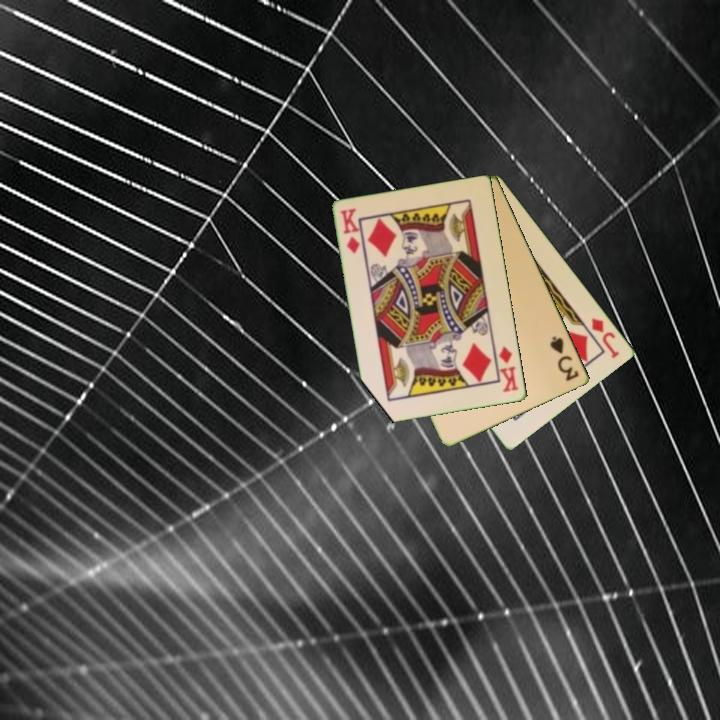3s: (547, 333, 582, 384)
Jd: (588, 314, 623, 361)
Kd: (496, 343, 522, 395), (337, 205, 363, 256)
